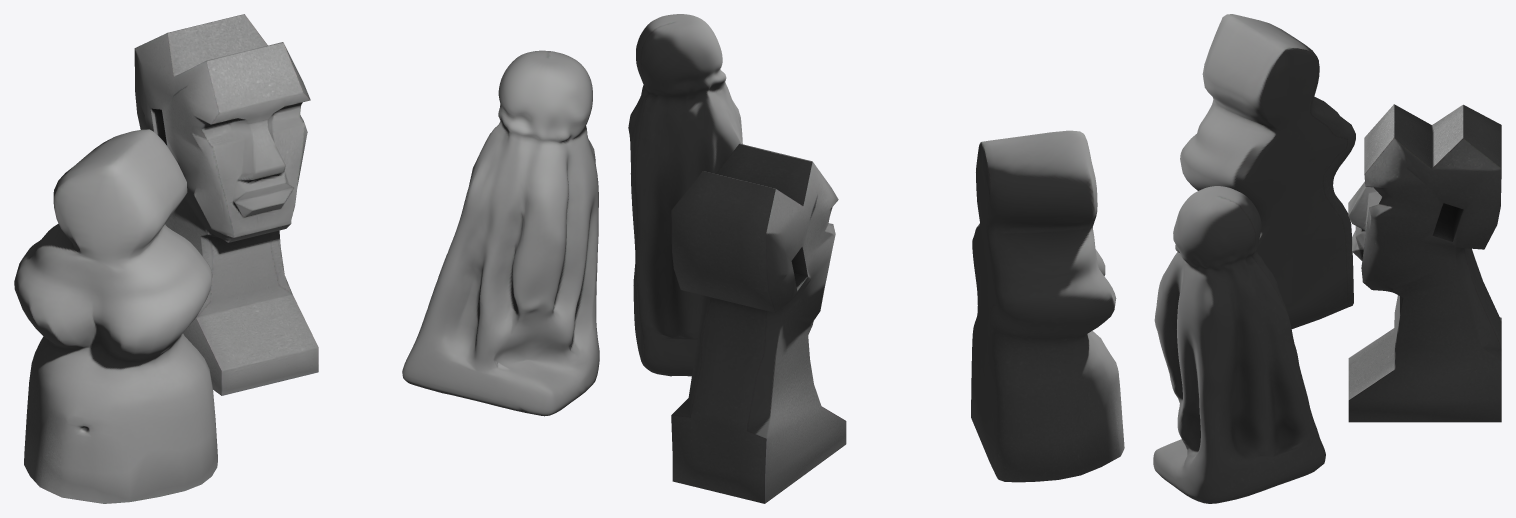
File: EsculturaUmaTextura3.glb
The picture shows the model from 3 angles, left to right: view 1: azimuth 30°, elevation 25°; view 2: azimuth 150°, elevation 25°; view 3: azimuth 270°, elevation 25°; orthographic projection. The views are drawn at different scales.
Visible parts, largest first — view 1: Ab_Geometria_Tres_Projetos_UPBGE_0440.002; view 2: Ab_Geometria_Tres_Projetos_UPBGE_0440.002; view 3: Ab_Geometria_Tres_Projetos_UPBGE_0440.002.
Boxes of the visible parts, bbox=[...] form: Ab_Geometria_Tres_Projetos_UPBGE_0440.002: bbox=[14, 14, 599, 503]; Ab_Geometria_Tres_Projetos_UPBGE_0440.002: bbox=[628, 14, 1124, 503]; Ab_Geometria_Tres_Projetos_UPBGE_0440.002: bbox=[1153, 14, 1501, 503].
Bounding box in the file's own units: 2.08 × 1.24 × 1.32.
Materials: 1 (1 with a texture image).
